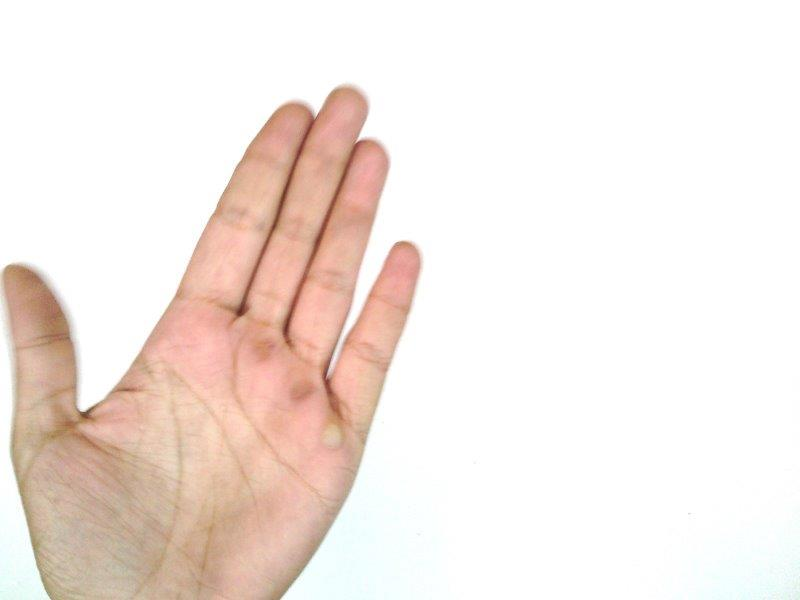hand: (1, 86, 421, 600)
